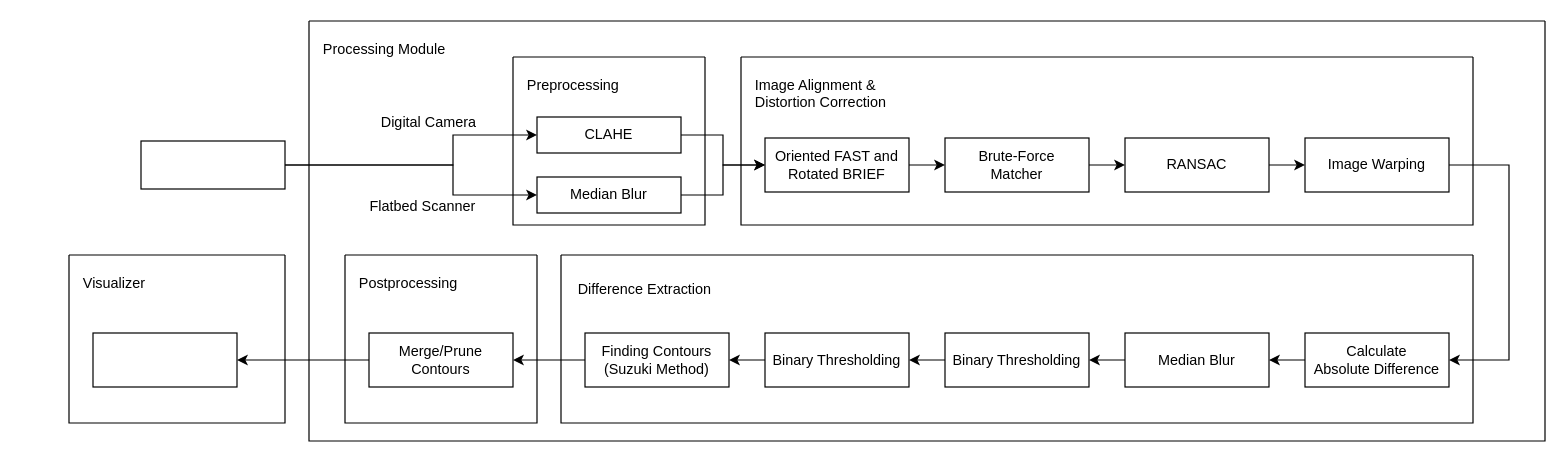
Some shapes in this 1566 by 462 pixel diagram are drawn without their labels. Each missing label, with the centre of its shape:
Image Input: pixel 212 164
Visualize: pixel 164 359
